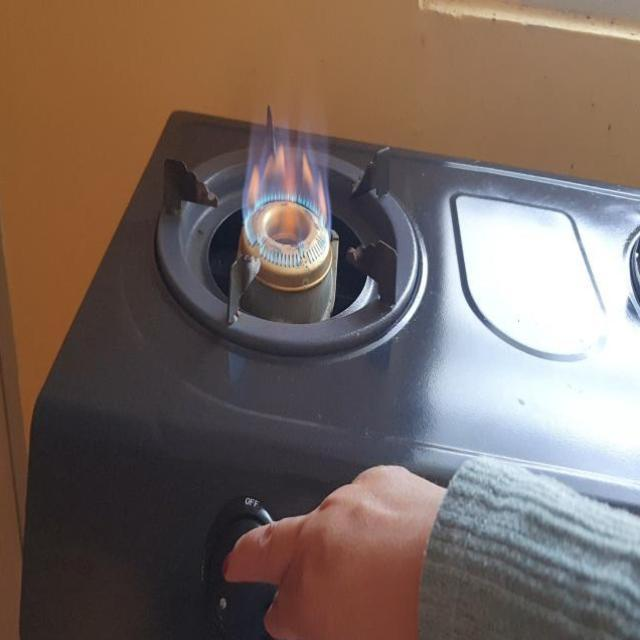smoke: (238, 65, 336, 275)
